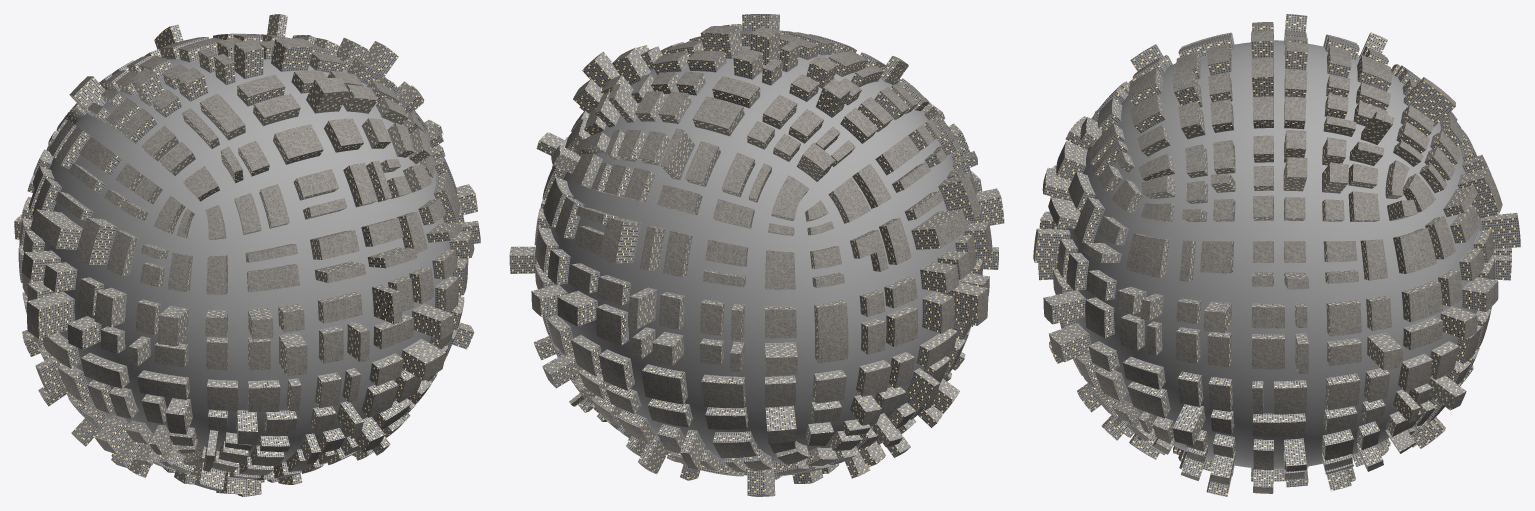
The model's file is Curved World.fbx.
3 renders of one model, left to right at view 1: azimuth 30°, elevation 25°; view 2: azimuth 150°, elevation 25°; view 3: azimuth 270°, elevation 25°, orthographic.
Parts seen in each view (by area): view 1: group17, Streets; view 2: group17, Streets; view 3: group17, Streets.
Part boxes in pixels (x1=…): group17: x1=14, y1=14, x2=480, y2=496; Streets: x1=41, y1=54, x2=452, y2=463; group17: x1=509, y1=14, x2=1004, y2=496; Streets: x1=548, y1=46, x2=969, y2=463; group17: x1=1033, y1=14, x2=1520, y2=496; Streets: x1=1065, y1=41, x2=1482, y2=468.
Bounding box in the file's own units: 454 × 446 × 447.
